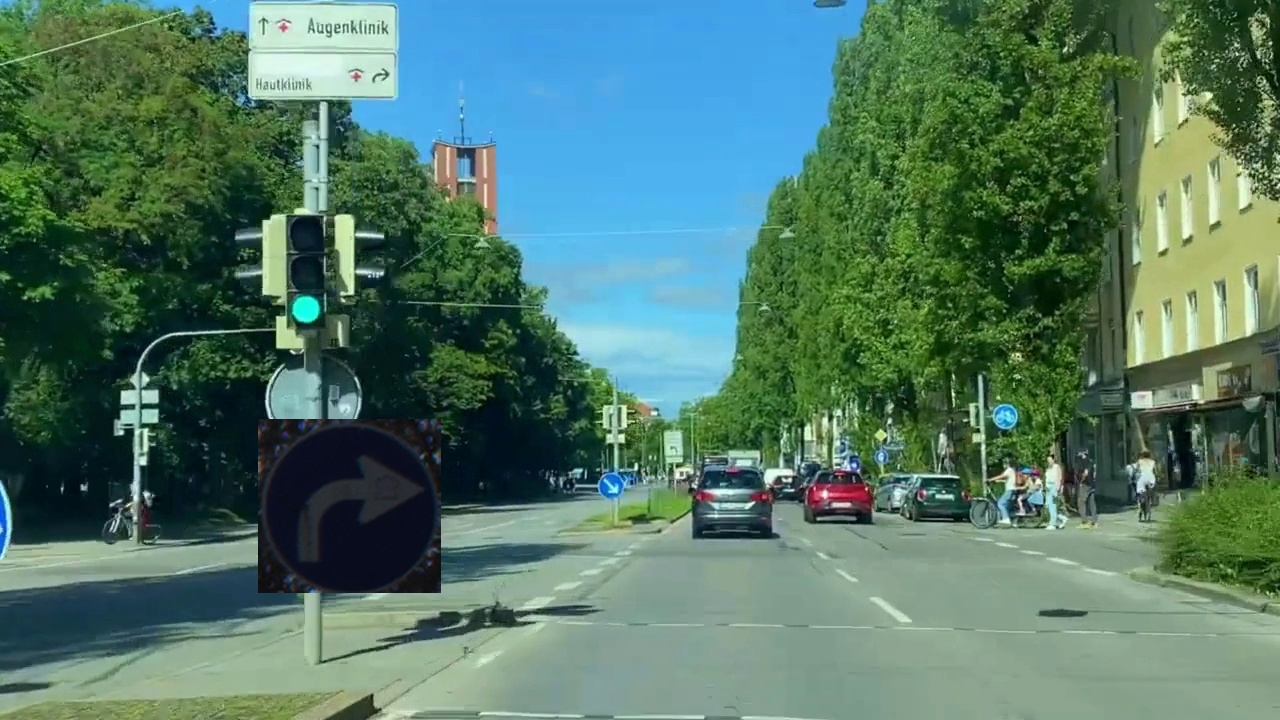Turn right: (258, 419, 441, 593)
